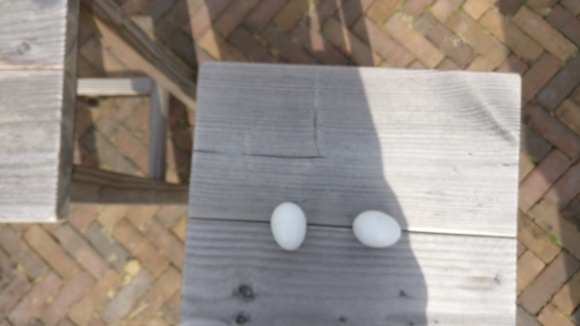egg: (270, 200, 309, 251), (351, 209, 402, 248)
